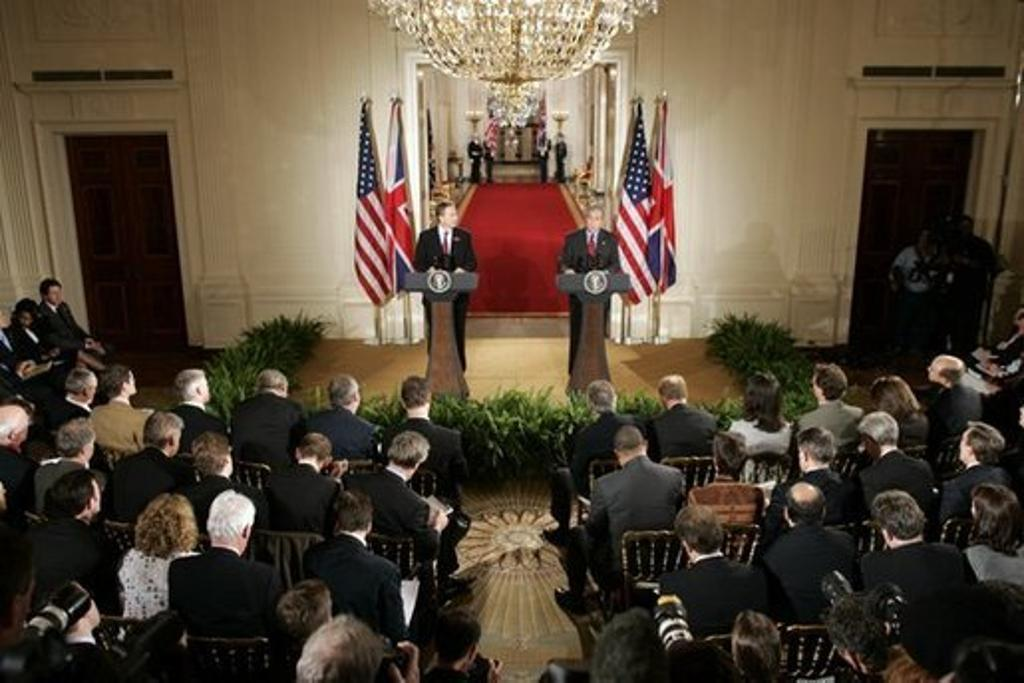face: (83, 482, 102, 515), (959, 432, 976, 461), (813, 375, 827, 403), (167, 429, 180, 455), (800, 445, 813, 471), (196, 376, 210, 400), (83, 434, 95, 461), (122, 371, 136, 394), (587, 212, 603, 232), (443, 207, 457, 227), (928, 362, 941, 383), (49, 287, 63, 306), (958, 222, 971, 241), (921, 232, 933, 249), (21, 311, 32, 326)
